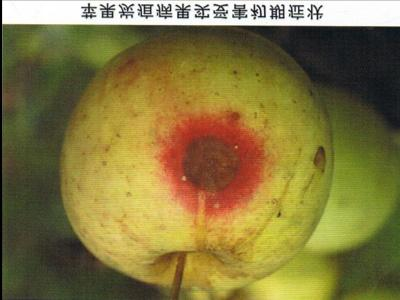rotten apple: (59, 26, 337, 288)
